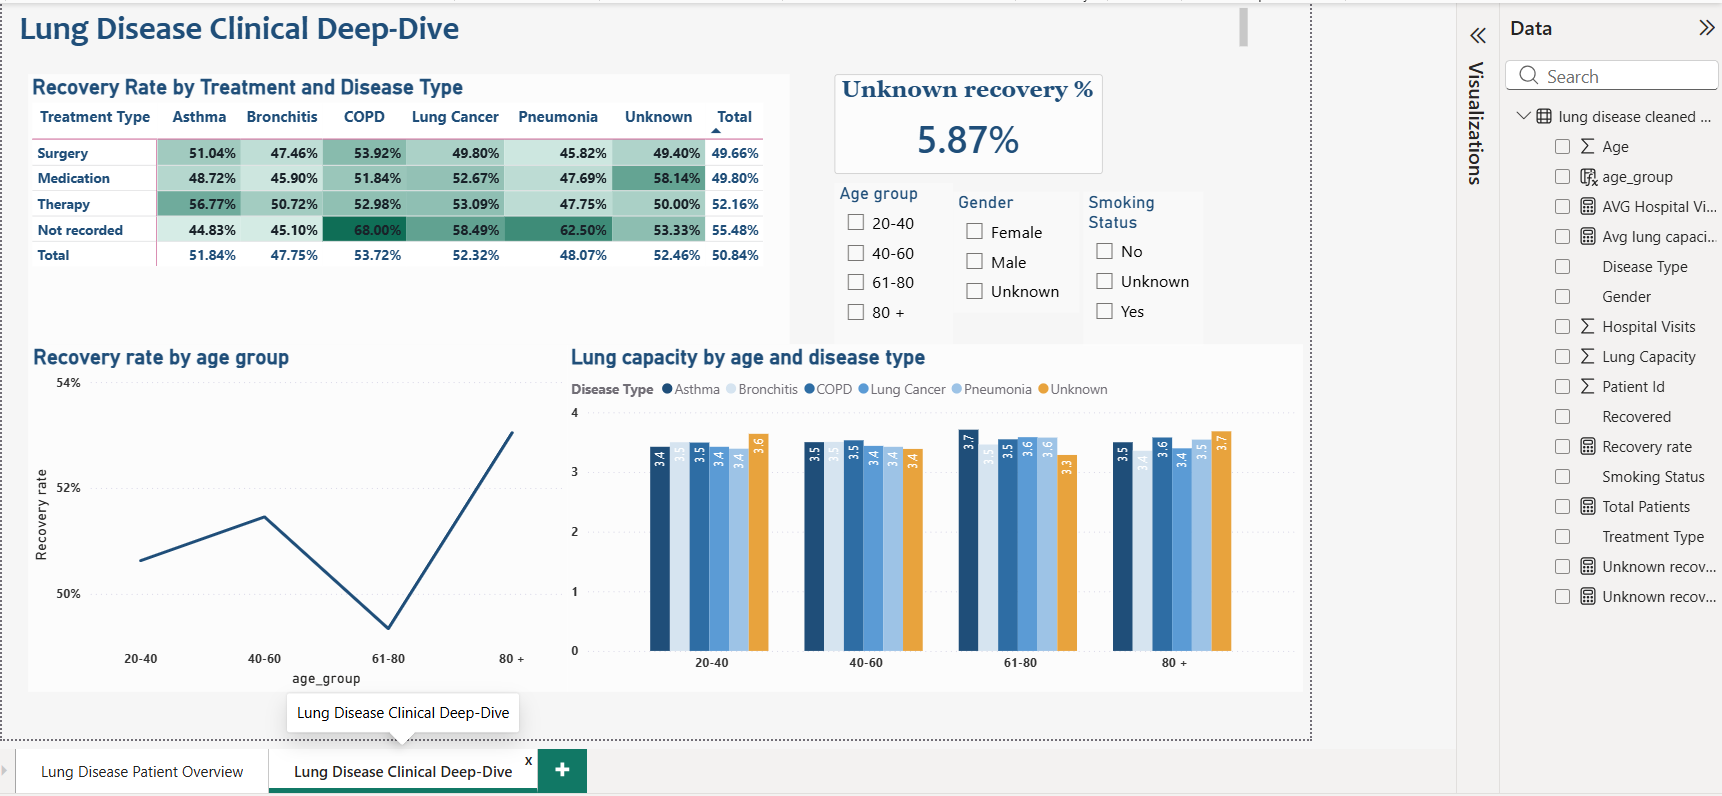

What the dashboard file says about the page in this screenshot:
{"tool":"powerbi","page":{"name":"Lung Disease Clinical Deep-Dive","canvas":[1280,720],"ordinal":1},"visuals":[{"type":"lineChart","title":"Recovery rate by age group","fields":{"Y":["lung disease cleaned data.Recovery rate"],"Category":["lung disease cleaned data.age_group"]},"box":[25.7,333.8,527,339.9],"z":1},{"type":"clusteredColumnChart","title":"Lung capacity by age and  disease type","fields":{"Category":["lung disease cleaned data.age_group"],"Y":["lung disease cleaned data.Avg lung capacity"],"Series":["lung disease cleaned data.Disease Type"]},"box":[552.7,333.8,720.2,339.9],"z":6},{"type":"textbox","box":[12.3,0,1211.7,48],"z":7},{"type":"slicer","title":"Smoking Status","fields":{"Values":["lung disease cleaned data.Smoking Status"]},"box":[1057.8,184.6,117.4,150.4],"z":8},{"type":"slicer","title":"Gender","fields":{"Values":["lung disease cleaned data.Gender"]},"box":[930.6,184.6,123.5,118.6],"z":9},{"type":"slicer","title":"Age group","fields":{"Values":["lung disease cleaned data.age_group"]},"box":[814.4,176.1,116.2,157.7],"z":10},{"type":"pivotTable","title":"Recovery Rate by Treatment and Disease Type","fields":{"Rows":["lung disease cleaned data.Treatment Type"],"Values":["lung disease cleaned data.Recovery rate"],"Columns":["lung disease cleaned data.Disease Type"]},"box":[25.7,69.7,744.7,264.1],"z":11},{"type":"cardVisual","title":"Unknown recovery %","fields":{"Data":["lung disease cleaned data.Unknown recovery"]},"box":[815,70,262.5,97.5],"z":12}]}

Visuals, with their boxes on the page's 1280x720 design canvas (x1, y1, x2, y2). These are canvas units, not pixel positions in the 1722x796 screenshot, which may show the page scaled, cropped or inside an application window:
"Recovery rate by age group" lineChart: l=26, t=334, r=553, b=674
"Lung capacity by age and  disease type" clusteredColumnChart: l=553, t=334, r=1273, b=674
textbox: l=12, t=0, r=1224, b=48
"Smoking Status" slicer: l=1058, t=185, r=1175, b=335
"Gender" slicer: l=931, t=185, r=1054, b=303
"Age group" slicer: l=814, t=176, r=931, b=334
"Recovery Rate by Treatment and Disease Type" pivotTable: l=26, t=70, r=770, b=334
"Unknown recovery %" cardVisual: l=815, t=70, r=1078, b=168
